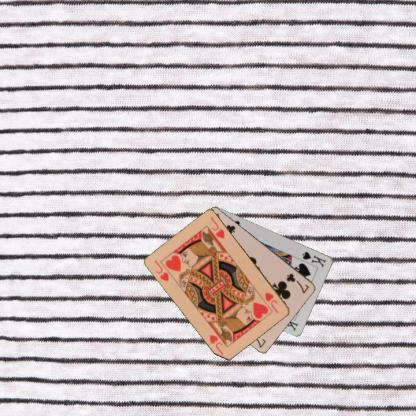7c: (284, 270, 310, 295)
Jh: (152, 257, 170, 283), (262, 290, 280, 315)
Ks: (300, 248, 327, 268)
